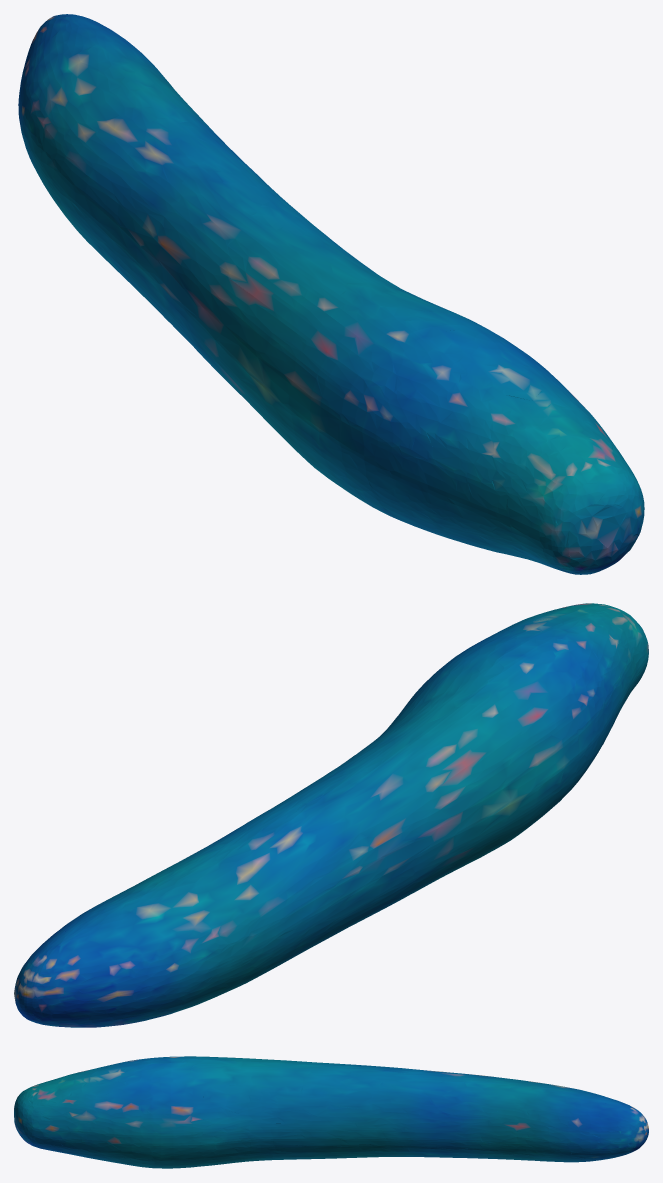
File: 5_mesh_cousin_07.glb
3 renders of one model, top to bottom at view 1: azimuth 30°, elevation 25°; view 2: azimuth 150°, elevation 25°; view 3: azimuth 270°, elevation 25°, orthographic. The views are drawn at different scales.
Parts seen in each view (by area): view 1: geometry_0; view 2: geometry_0; view 3: geometry_0.
Part boxes in pixels (x1,y1,x2,y2): geometry_0: (18, 14, 644, 574); geometry_0: (14, 603, 648, 1027); geometry_0: (14, 1056, 648, 1168).
Bounding box in the file's own units: 0.2054 × 0.1686 × 0.9994.
